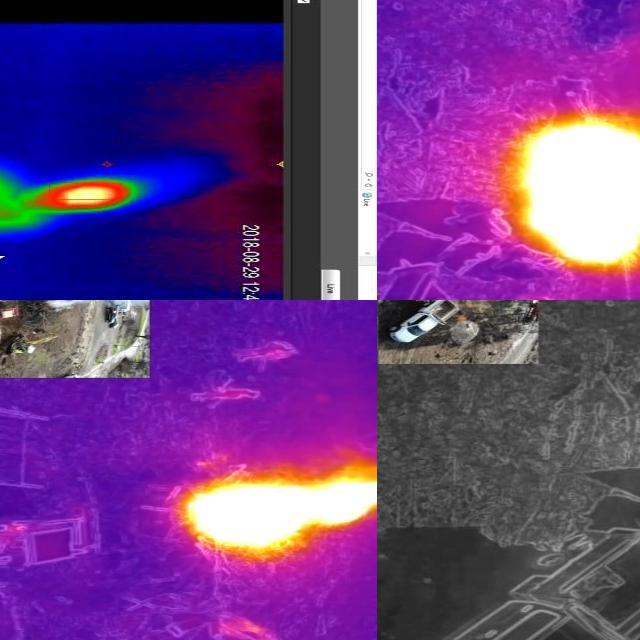fire: (510, 115, 640, 267), (177, 463, 378, 560), (26, 182, 170, 214)
